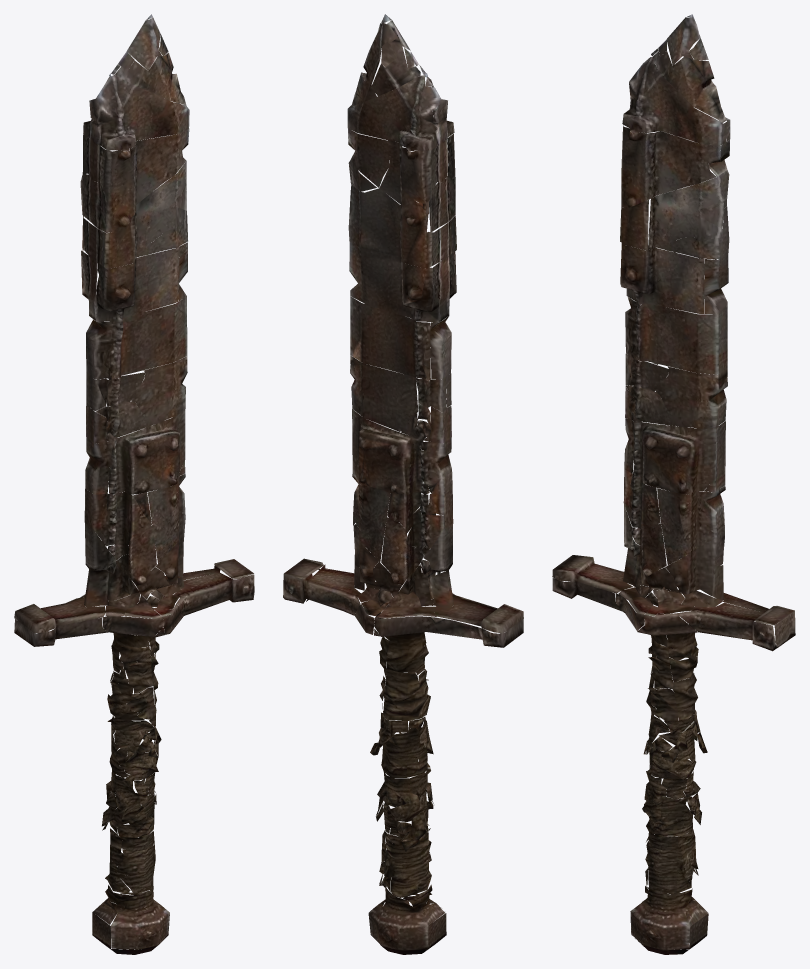
Rendered from w_kain_scrap.glb.
3 renders of one model, left to right at view 1: azimuth 30°, elevation 25°; view 2: azimuth 150°, elevation 25°; view 3: azimuth 330°, elevation 25°, orthographic.
Parts seen in each view (by area): view 1: tripo_node_236165c6-7fdb-4dd2-a774-7bc9ab7ba23a; view 2: tripo_node_236165c6-7fdb-4dd2-a774-7bc9ab7ba23a; view 3: tripo_node_236165c6-7fdb-4dd2-a774-7bc9ab7ba23a.
Part boxes in pixels (left/top/right/bottom): tripo_node_236165c6-7fdb-4dd2-a774-7bc9ab7ba23a: left=14, top=14, right=254, bottom=954; tripo_node_236165c6-7fdb-4dd2-a774-7bc9ab7ba23a: left=283, top=14, right=523, bottom=954; tripo_node_236165c6-7fdb-4dd2-a774-7bc9ab7ba23a: left=552, top=14, right=795, bottom=954.
Size of the model in its own units: 0.3998 by 1.6 by 0.1825.
Materials: 1 (1 with a texture image).
